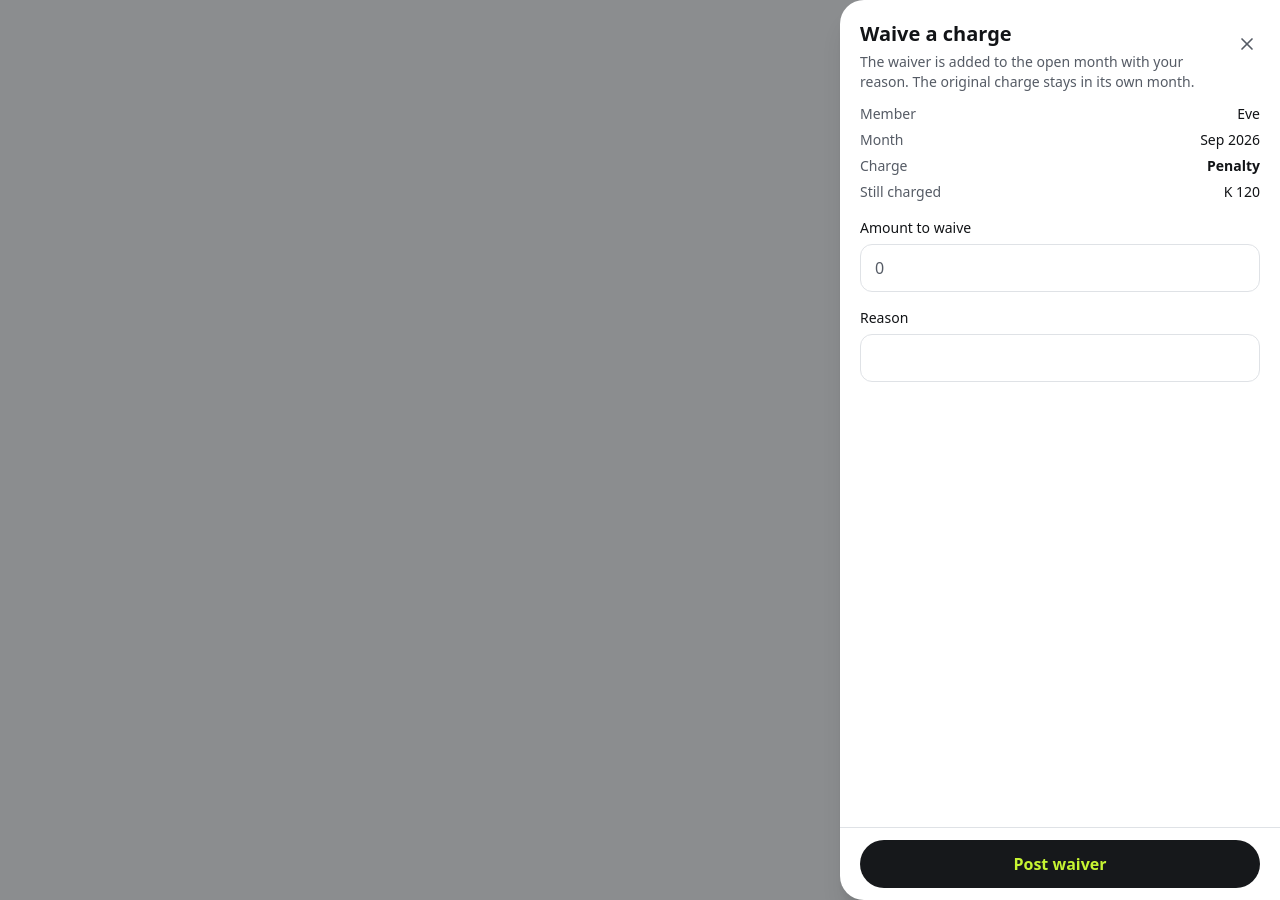
waiving takes a second tap that states the change, sends the exact values once, and closes
Type "50" into the field labelled "Amount to waive" at (1060, 268), box x1=860 y1=244 x2=1260 y2=292
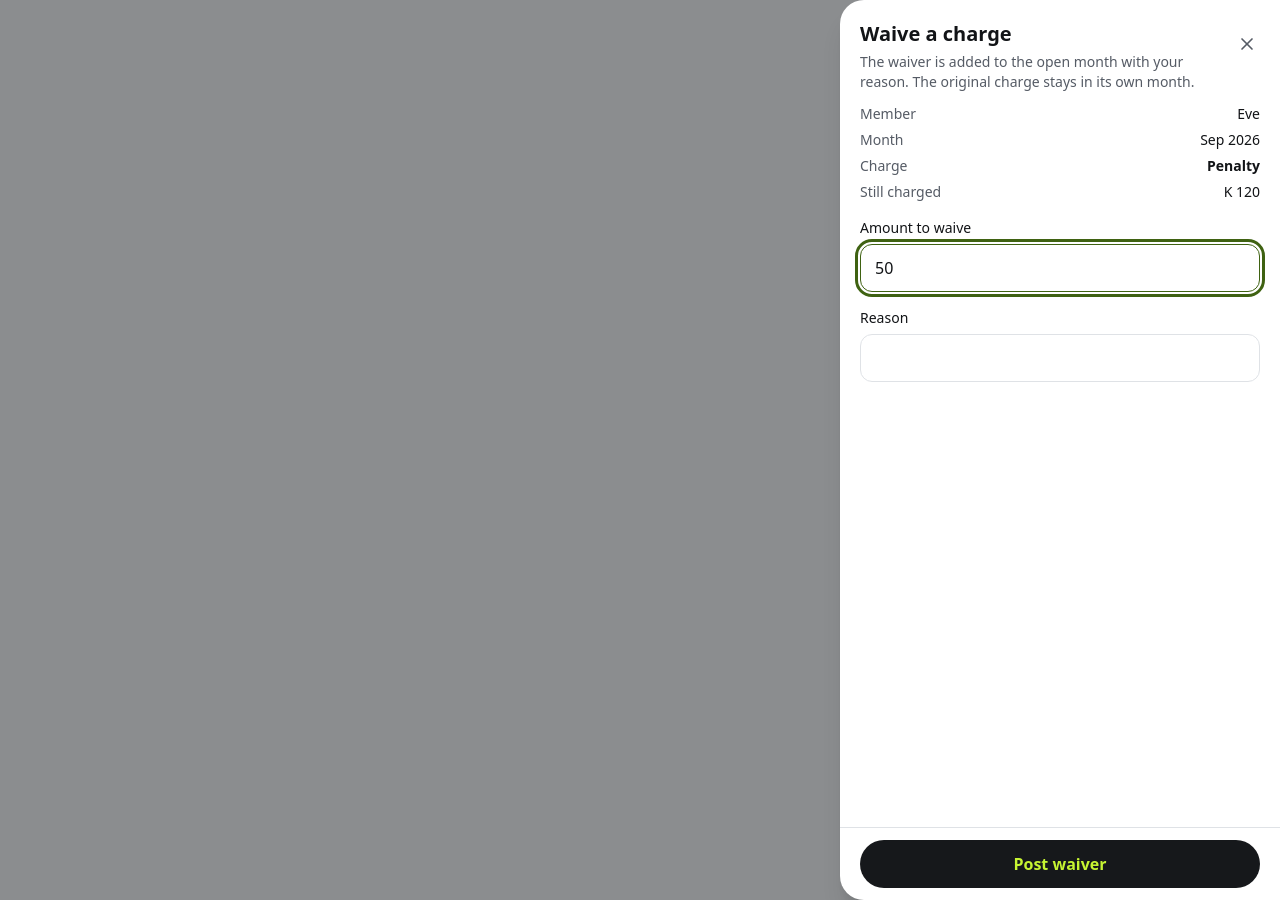
Type "Slip found" into the field labelled "Reason" at (1060, 358), box x1=860 y1=334 x2=1260 y2=382
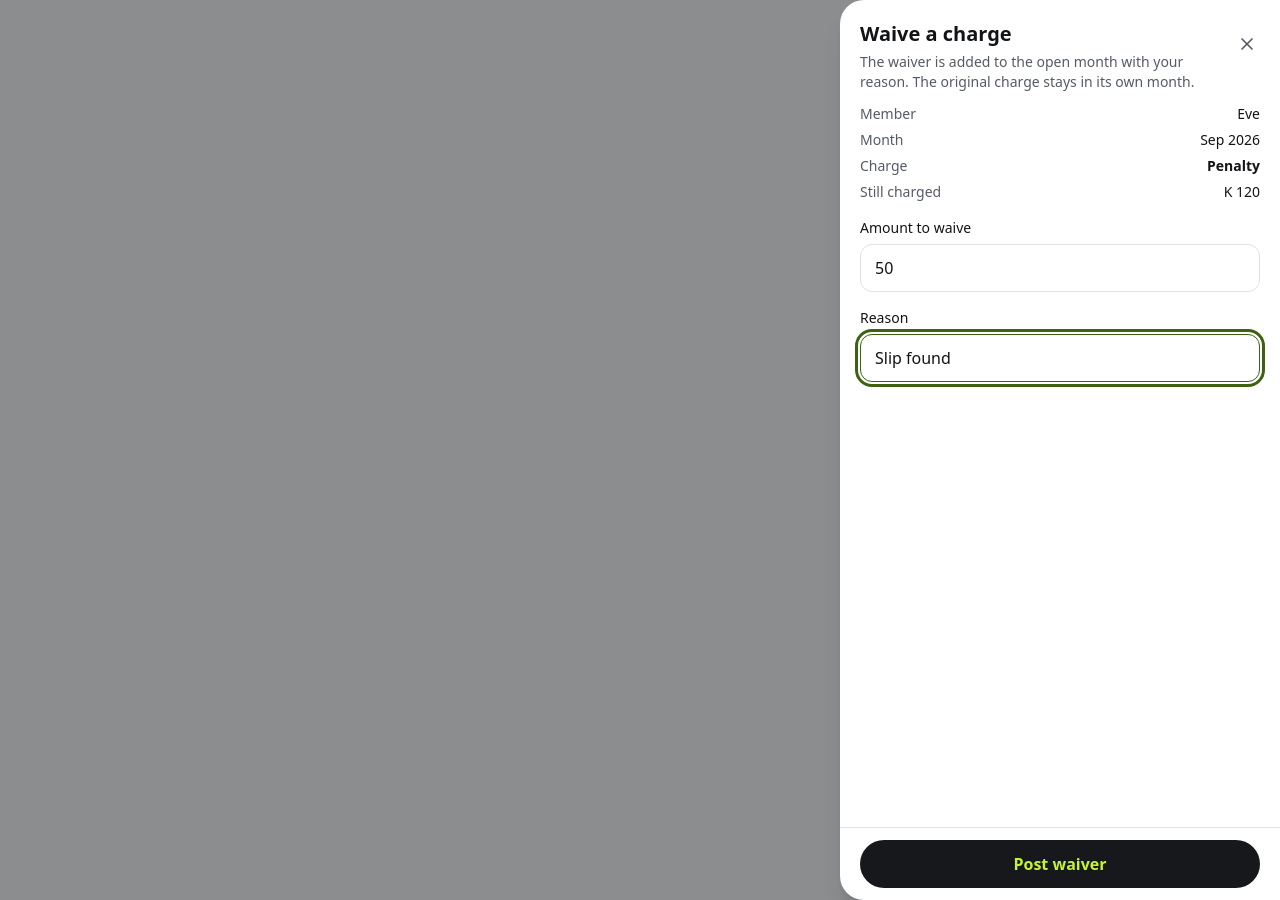
Click the button "Post waiver" at (1060, 864), box x1=860 y1=840 x2=1260 y2=888
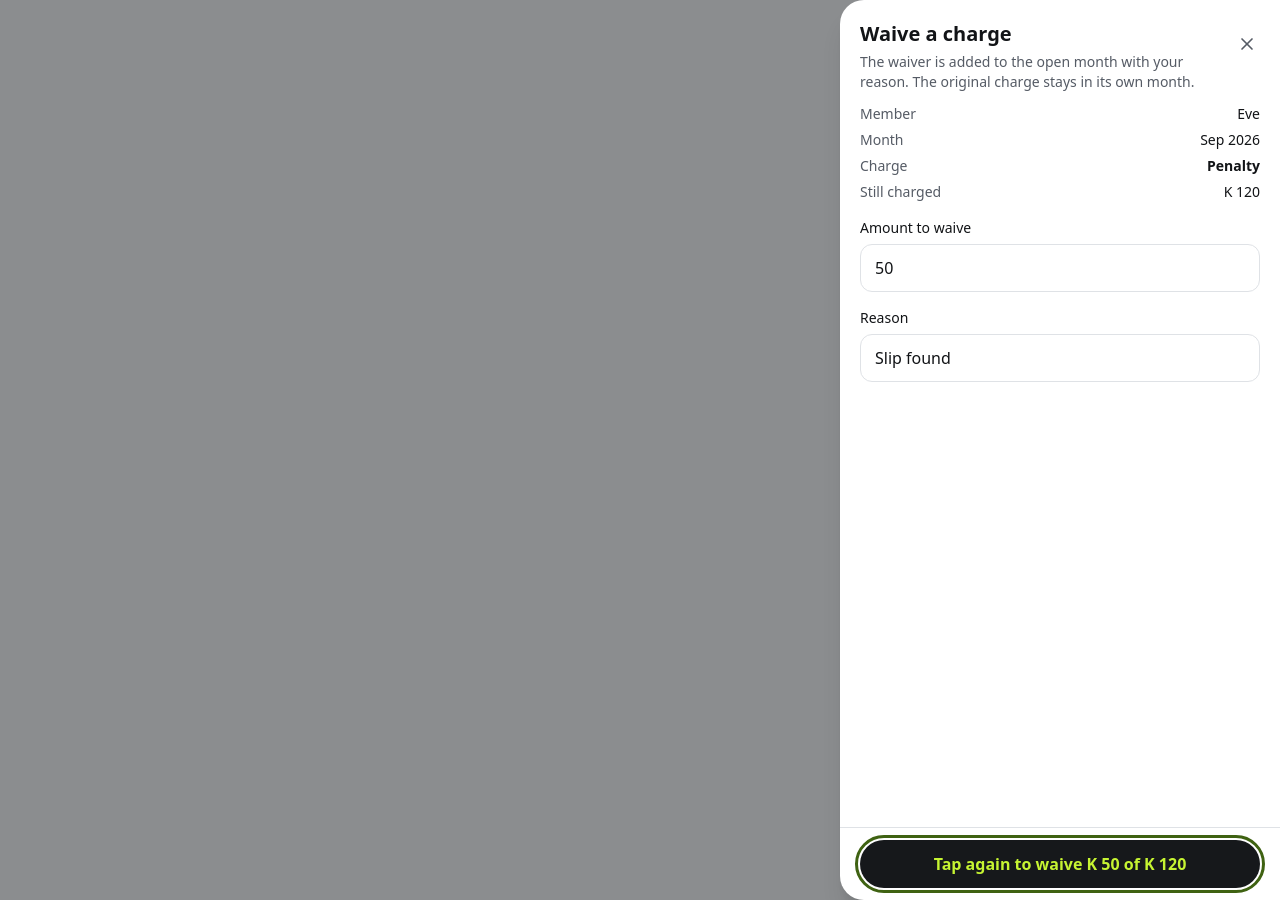
Click the button "Tap again to waive K 50 of K 120" at (1060, 864), box x1=860 y1=840 x2=1260 y2=888
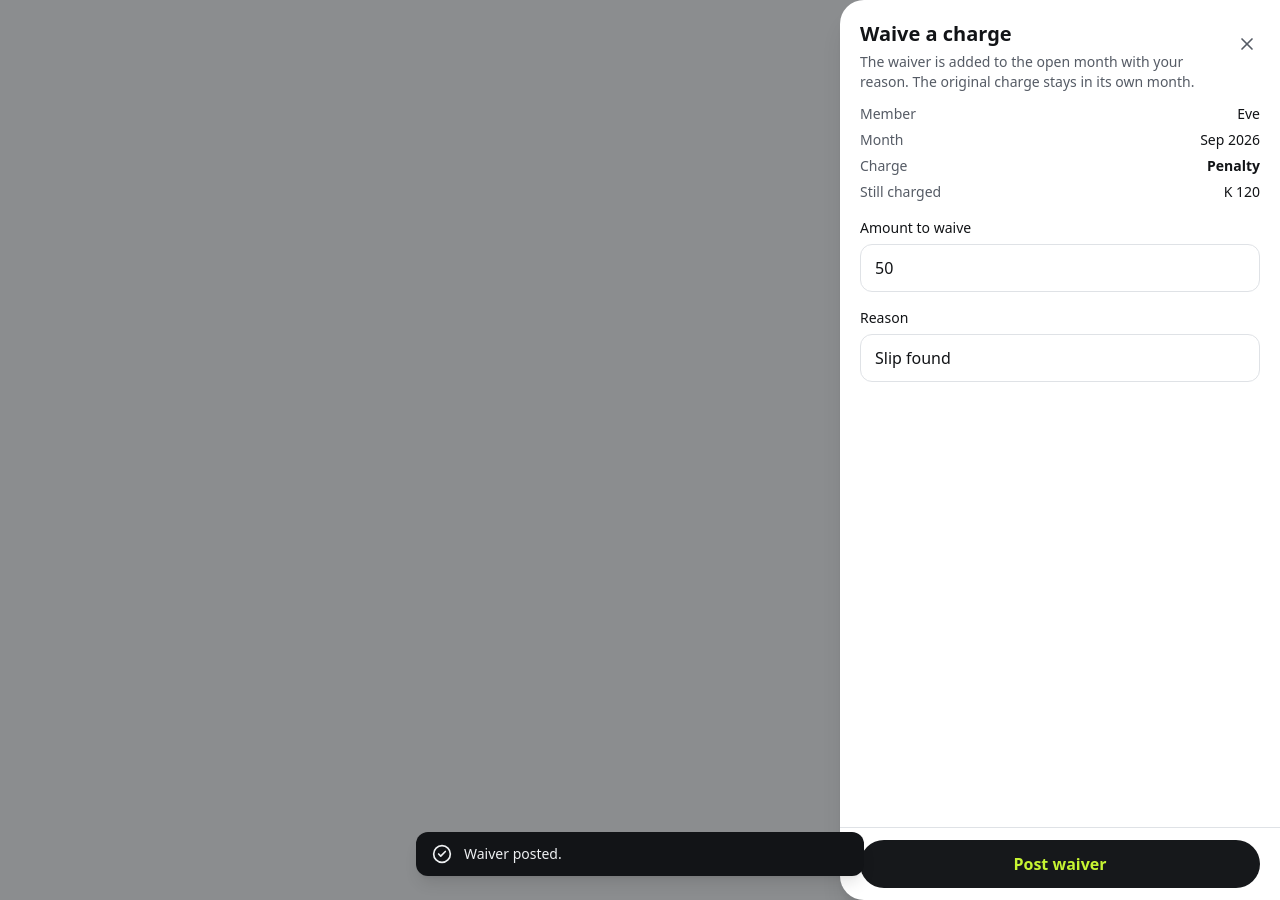
Check: the text "Waiver posted." is shown, box x1=464 y1=844 x2=562 y2=863
